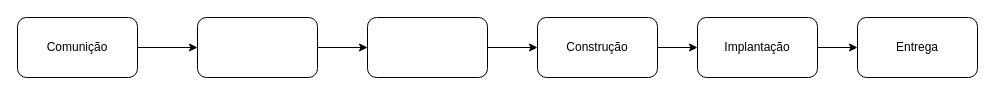
The diagram is 995 pixels wide and 95 high, and some of its shapes have lost their labels. The box of each missing label's shape, as (x1, y1, x2, y2) in pixels:
Modelagem: (366, 16, 488, 78)
planejamento: (196, 16, 318, 78)
